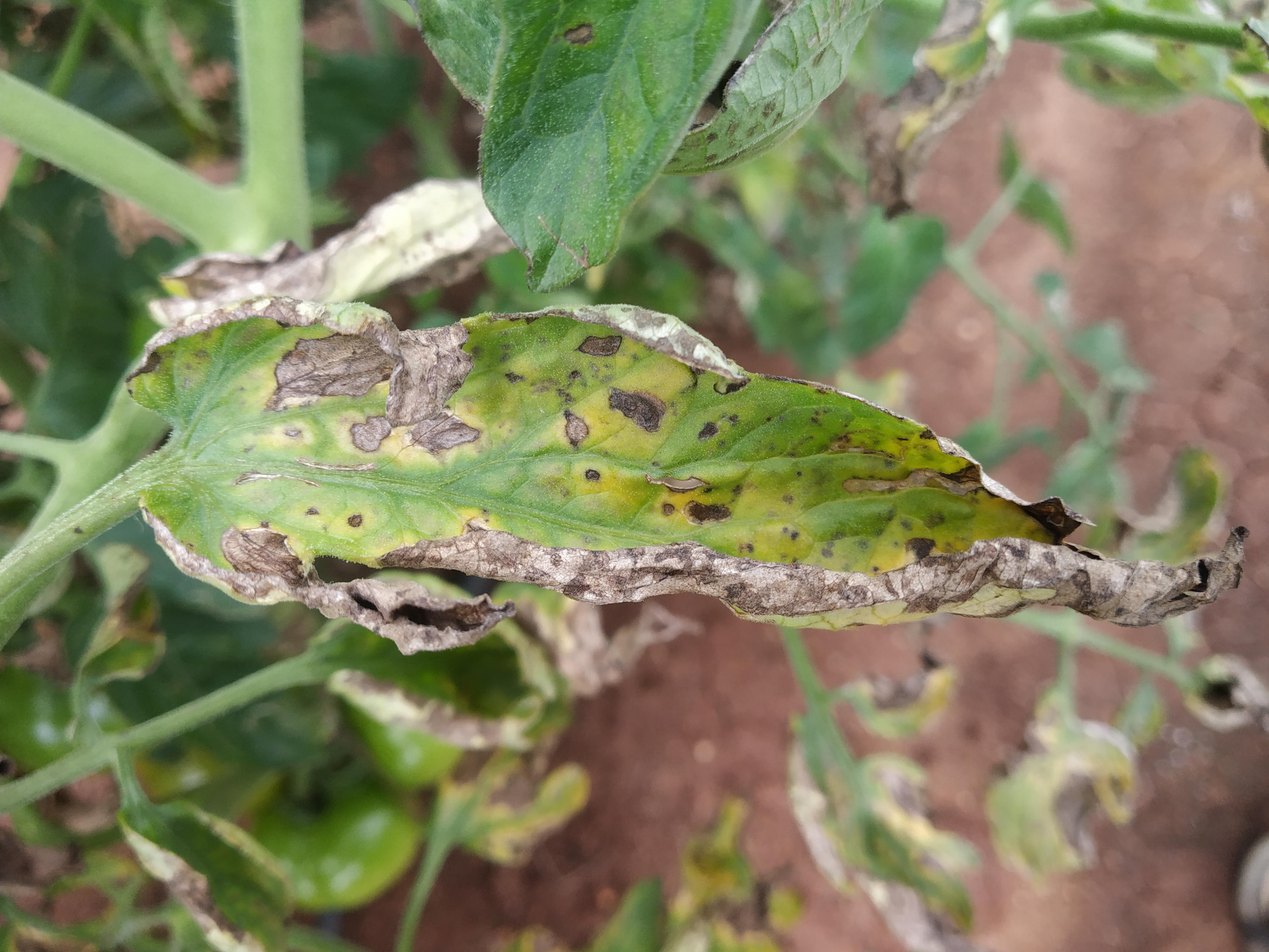Early Blight: (123, 294, 1250, 654)
